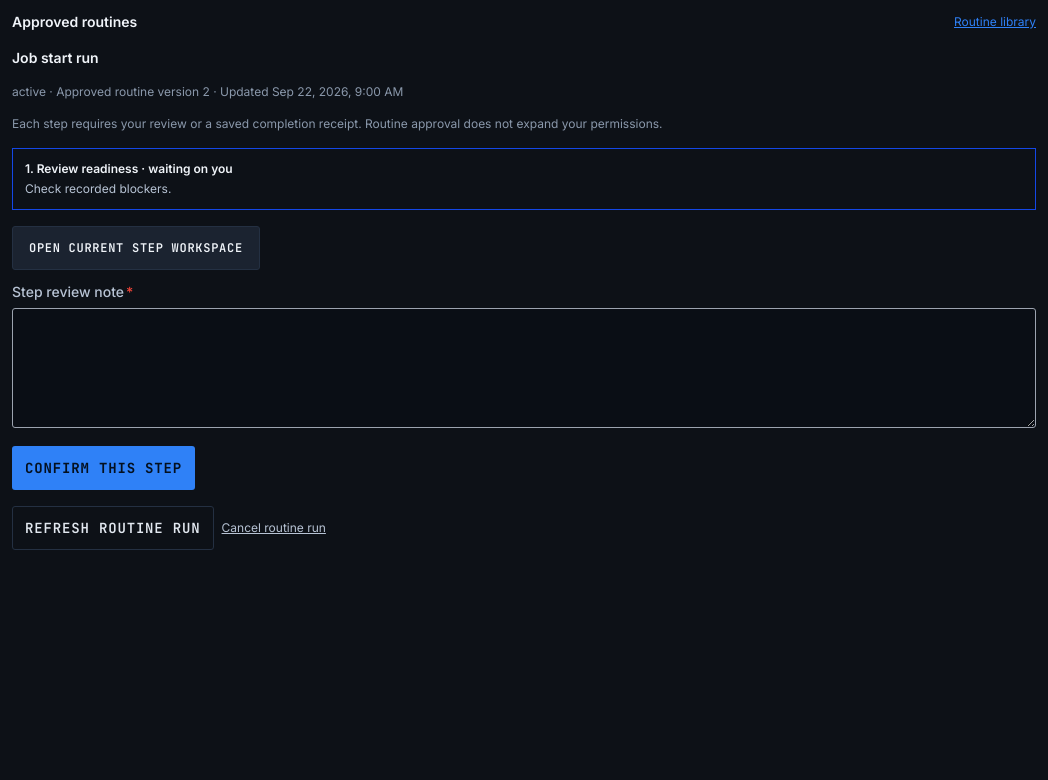
Test: returns a deep-linked saved run to the library without reopening it
Check: the heading "Job start run" is shown, box [12, 49, 99, 66]
Click the button "Routine library". click: (995, 22)
box: [954, 12, 1036, 32]
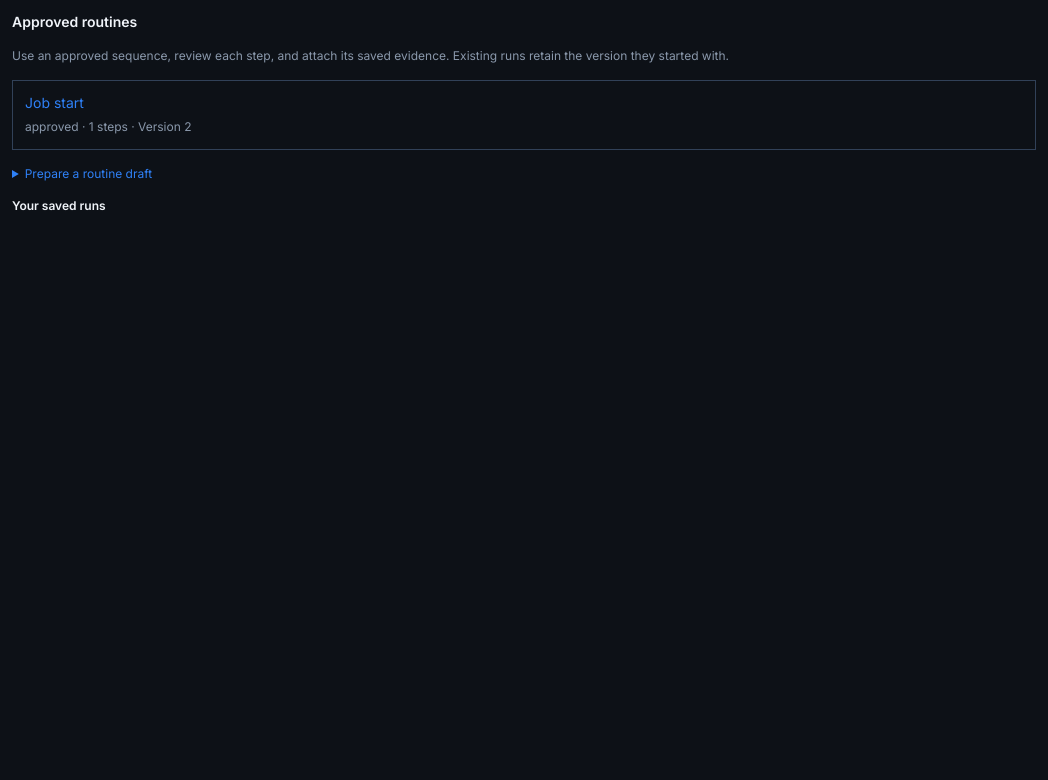
Check: the heading "Your saved runs" is shown, box [12, 198, 106, 213]
Check: the heading "Job start run" is gone
